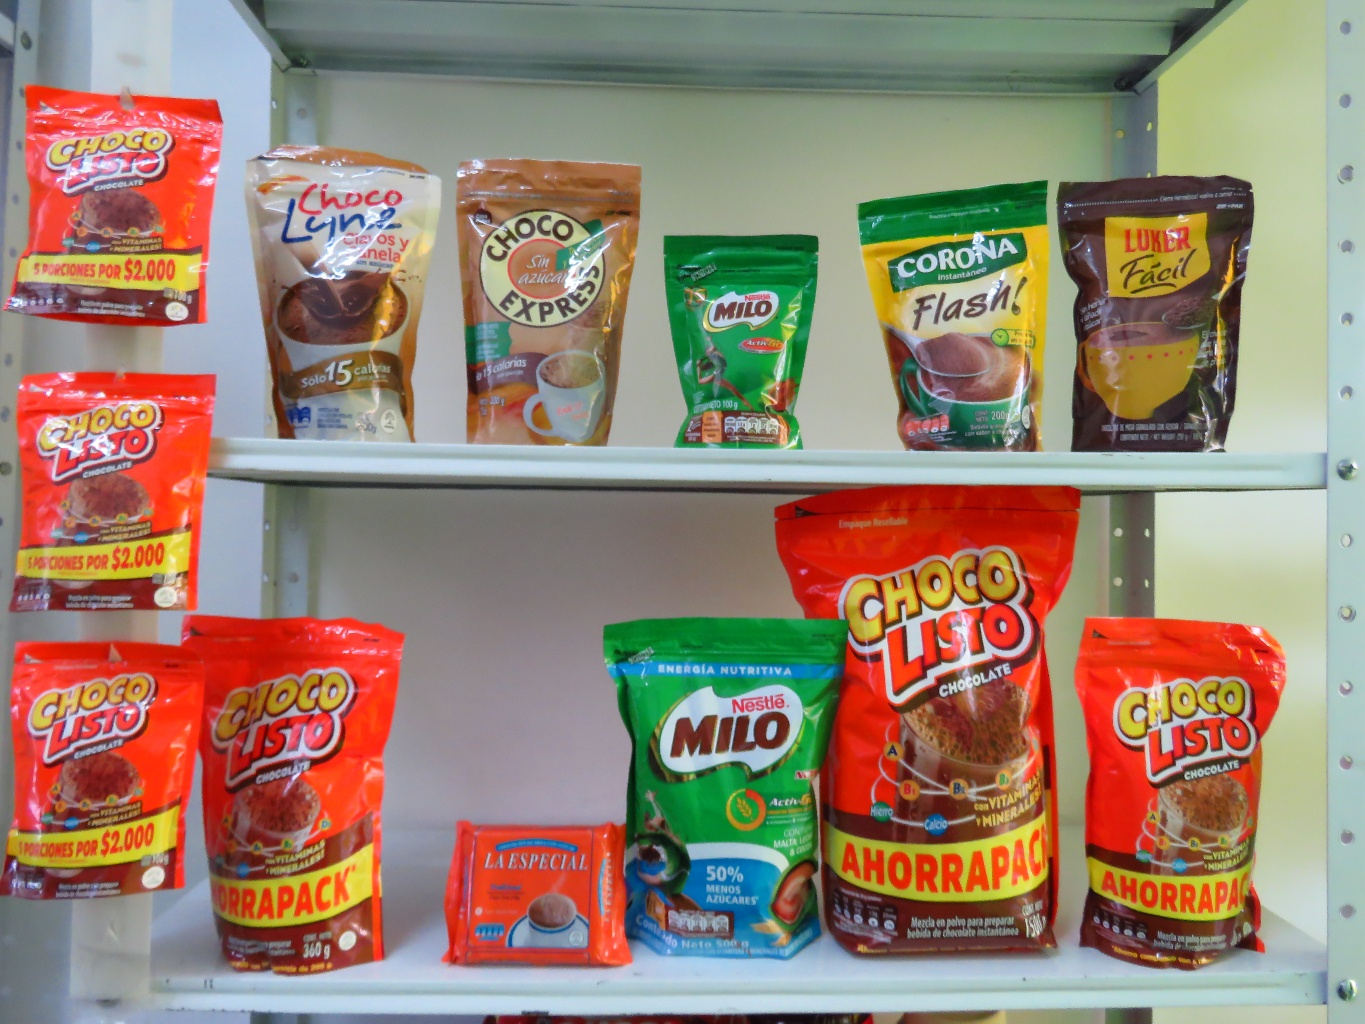COL0170103DYP1,500: (772, 481, 1089, 975)
COL0170103DYP10000: (14, 81, 225, 335)
COL0170103DYP36000: (187, 602, 420, 975)
COL0170103DYP40000: (1060, 599, 1295, 984)
COL0170203DYP10000: (665, 228, 822, 447)
COL0170205DYP50000: (593, 598, 856, 954)
